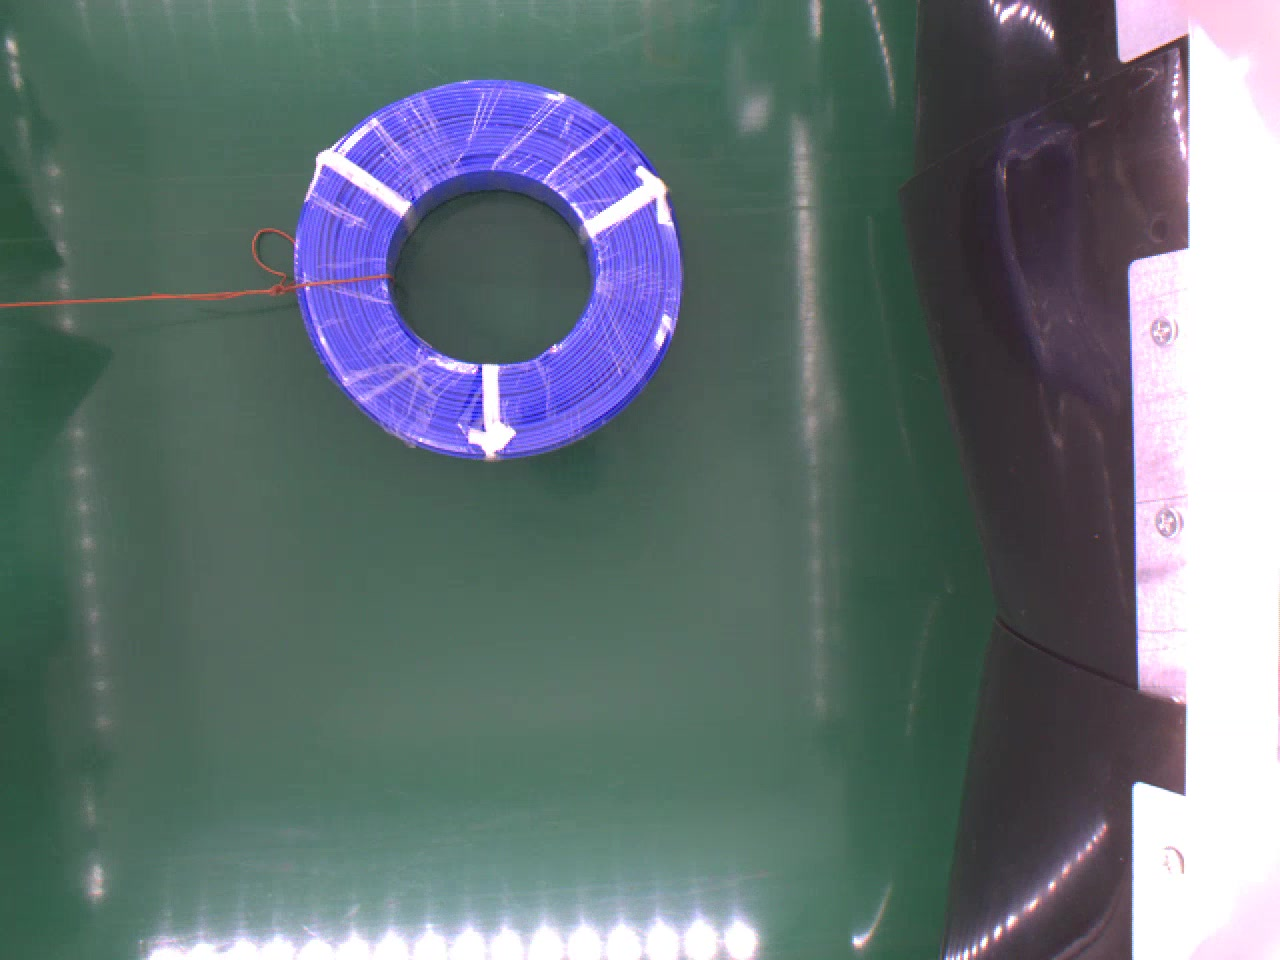blue: (291, 76, 685, 461)
